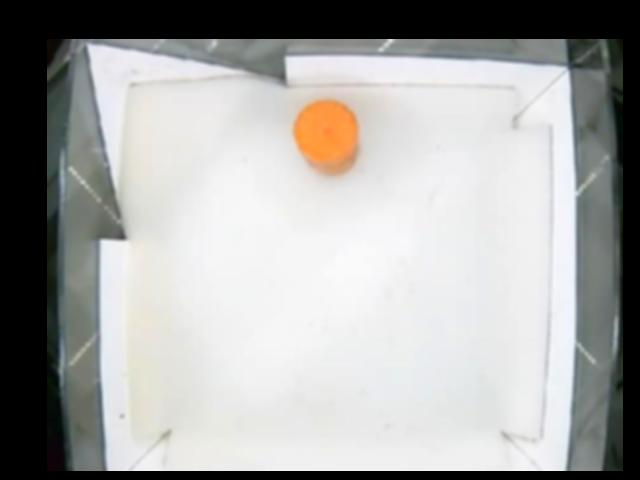Carrot: (294, 100, 358, 178)
